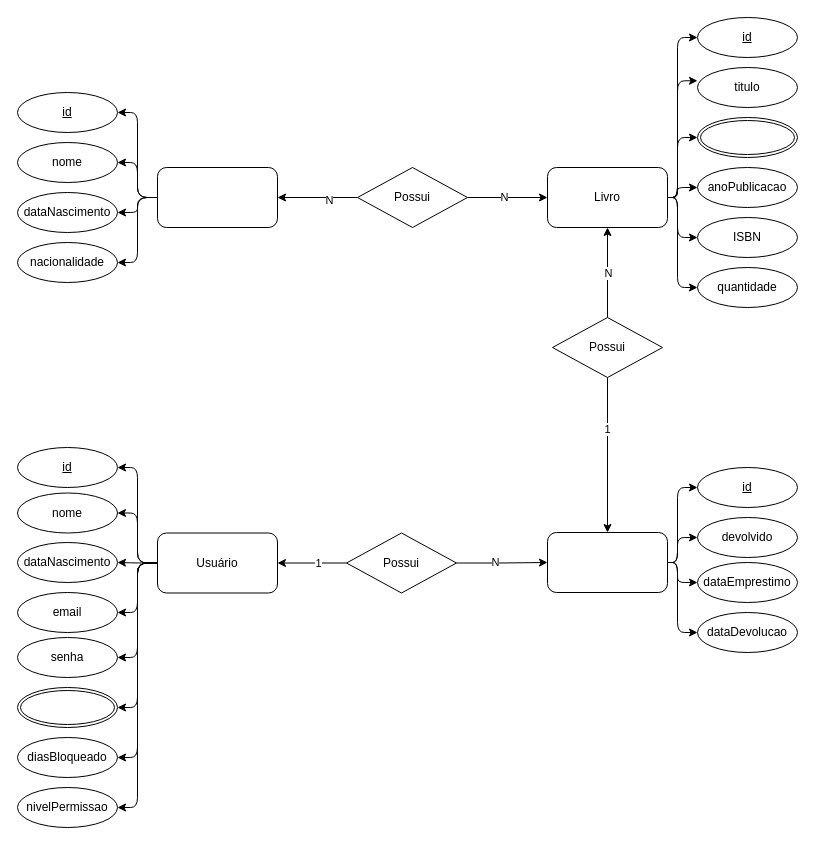
Image size: 815x845. Some labels were removed from this diagram. The shapes that lost their labels are listed below. From the top down, each one's centre as x and y in pixels, then its label:
(x=747, y=137): categorias
(x=217, y=197): Autor
(x=607, y=562): Empréstimo
(x=67, y=707): telefones
